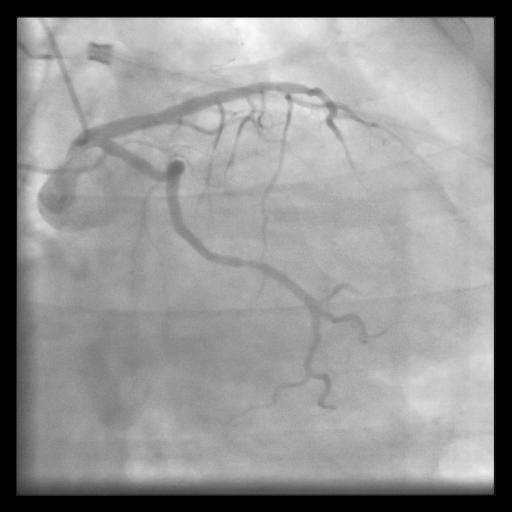Stenosis: (242, 254, 260, 269)
